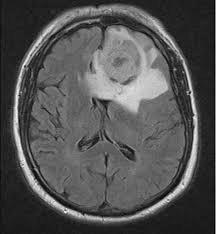Tumour-Meningioma: (88, 32, 167, 108)
